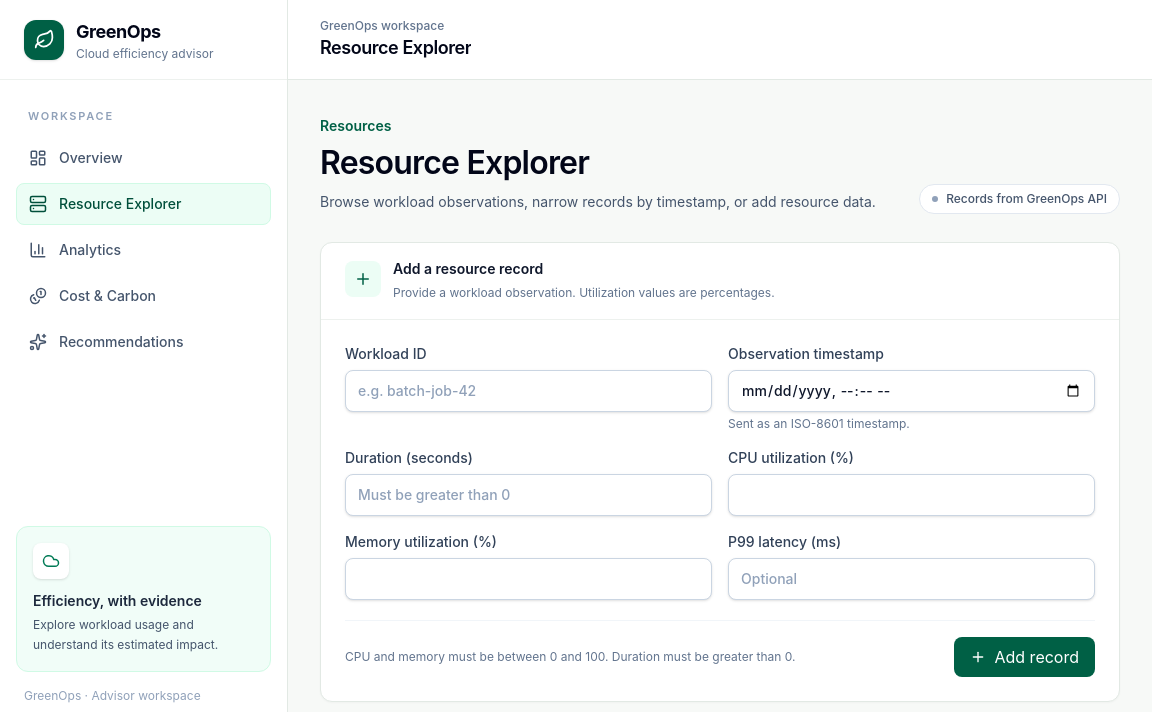
it: GreenOps routes and page behavior › shows resource creation server errors
This screenshot has width=1152, height=712.
In the field labelled "Workload ID": (528, 391) [345,370,712,412], type "job"
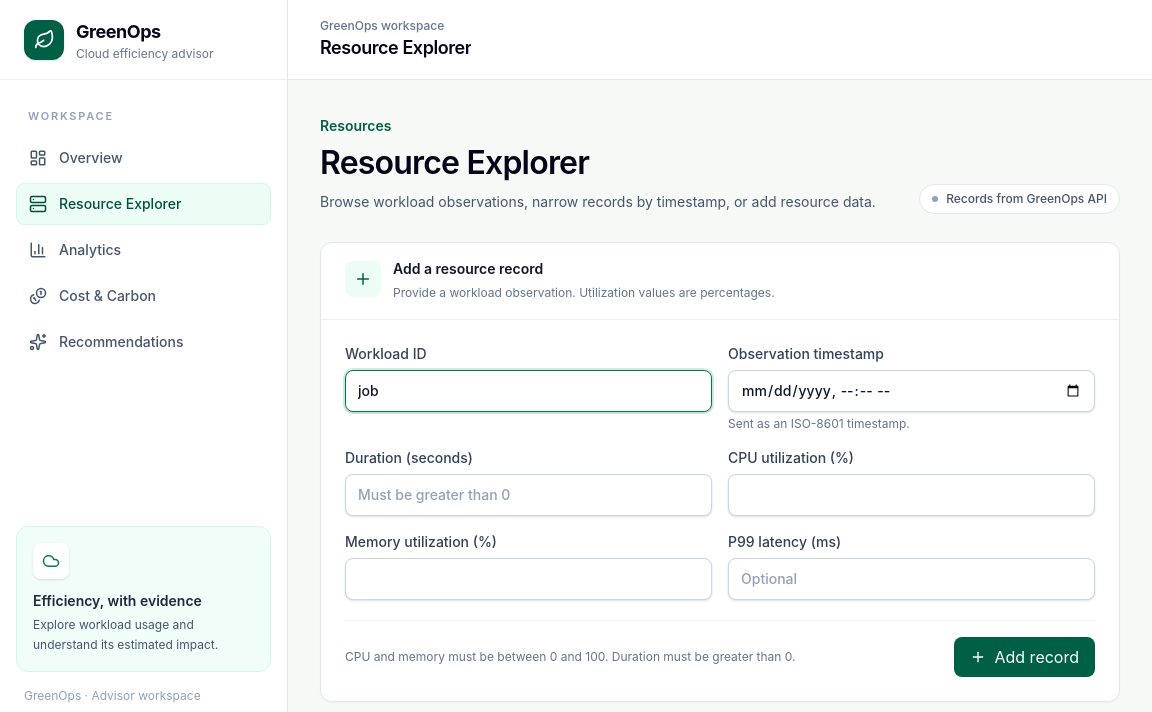
In the field labelled "Observation timestamp Sent as an ISO-8601 timestamp.": (912, 391) [728,370,1095,412], type "2026-10-15T12:00"
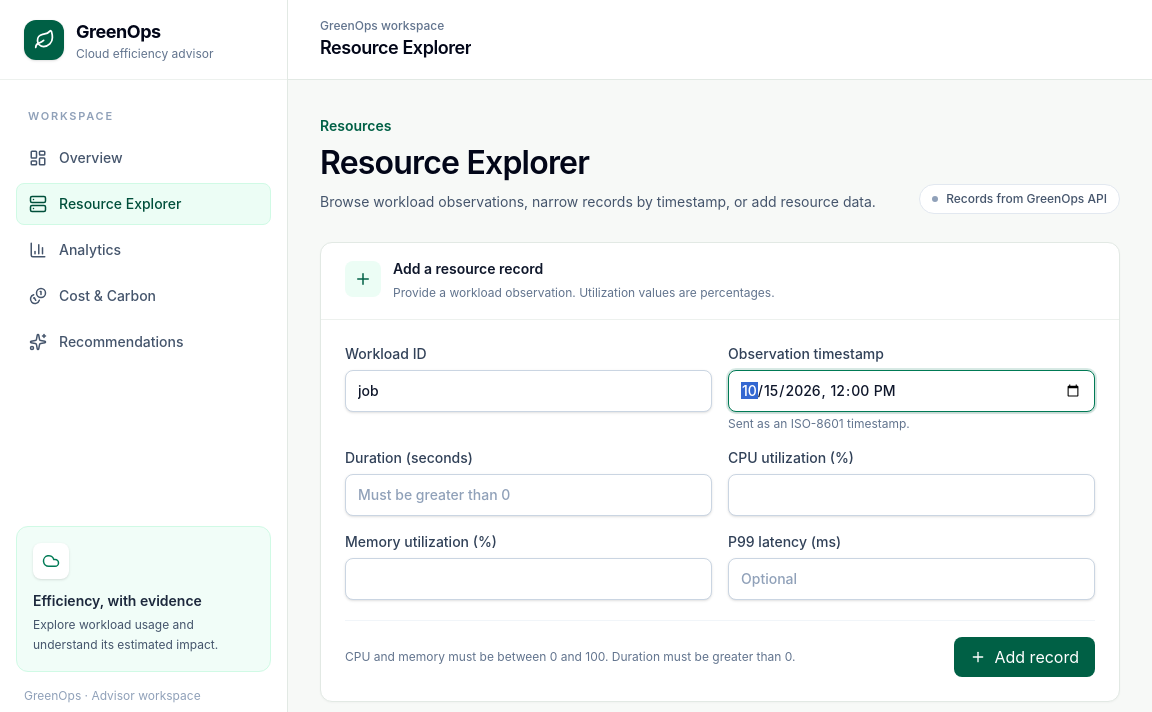
In the number field labelled "Duration (seconds)": (528, 495) [345,474,712,516], type "30"
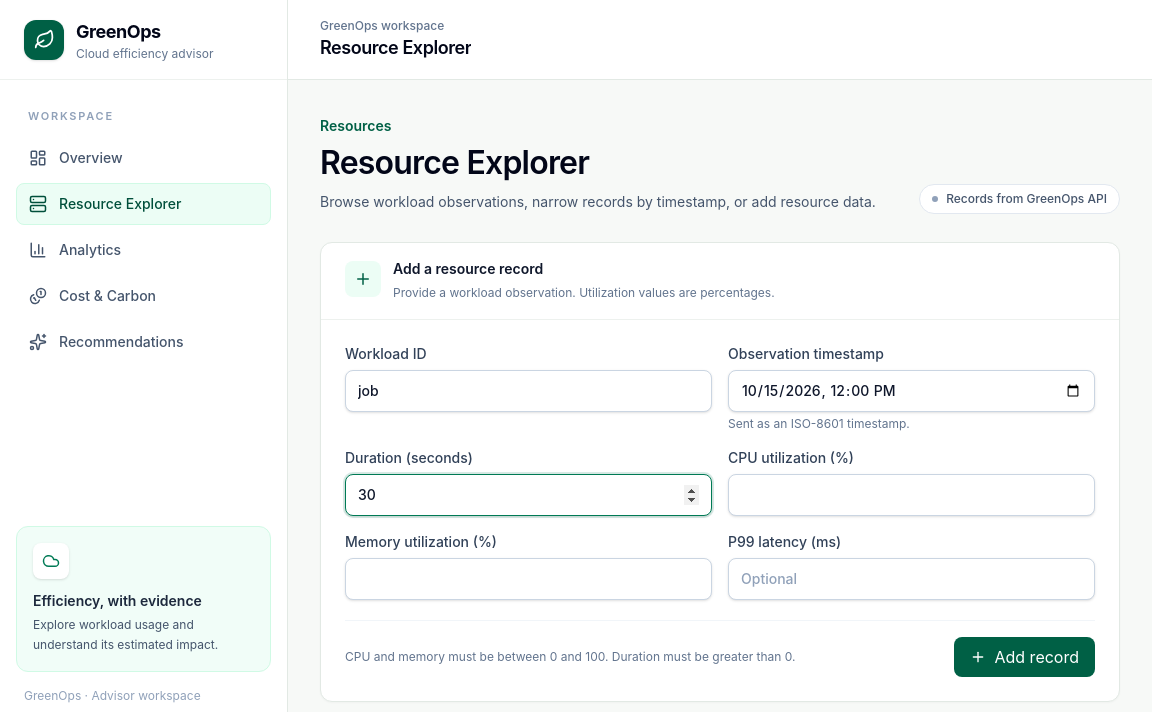
In the number field labelled "CPU utilization (%)": (912, 495) [728,474,1095,516], type "10"
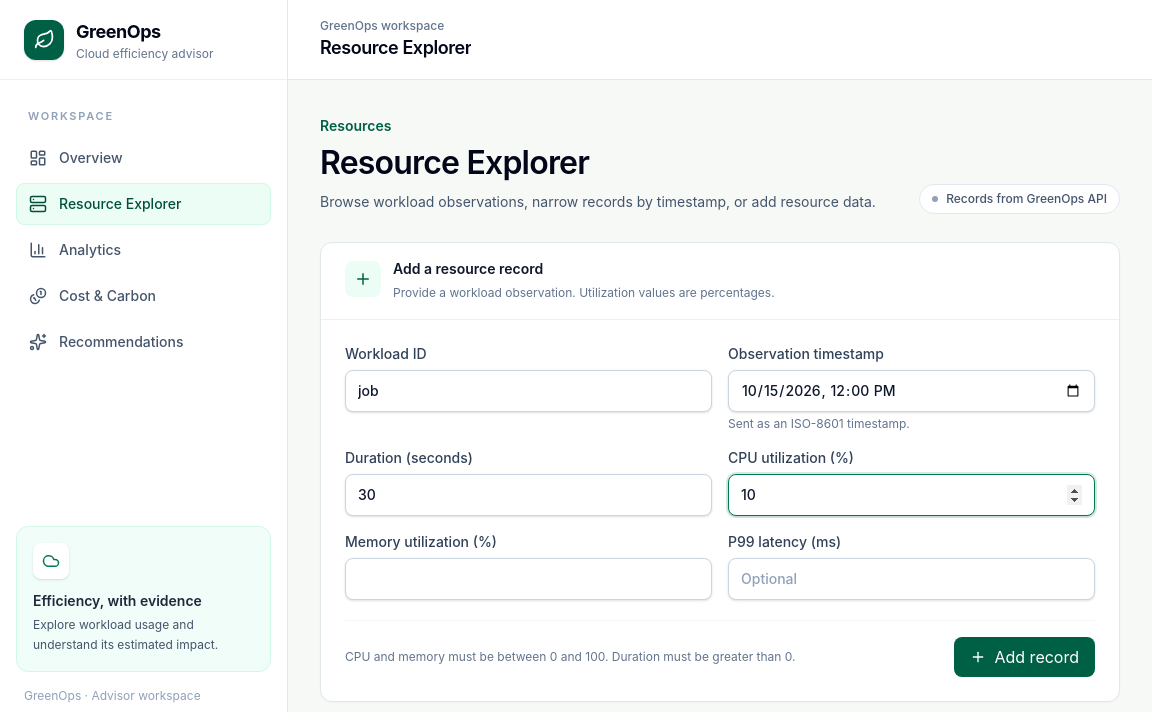
In the number field labelled "Memory utilization (%)": (528, 579) [345,558,712,600], type "20"
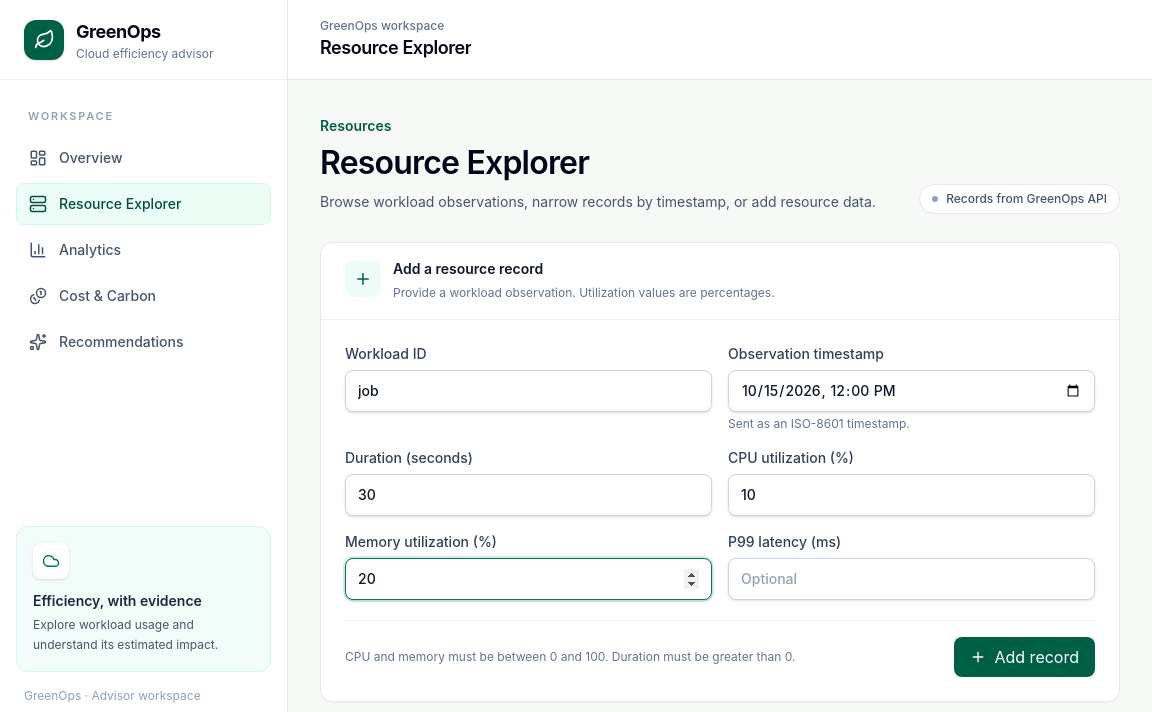
Click the button "Add record": (1025, 657) [954,637,1095,677]
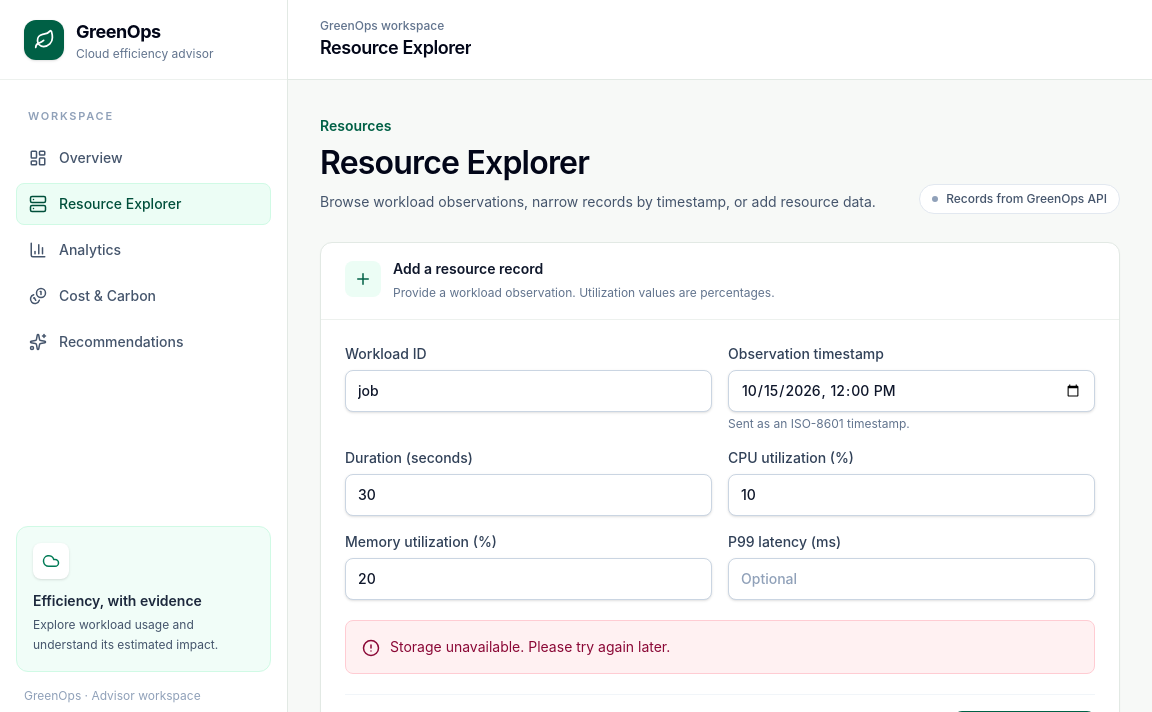
Expected: the text "Storage unavailable. Please try again later." is shown, [390,637,670,657]
